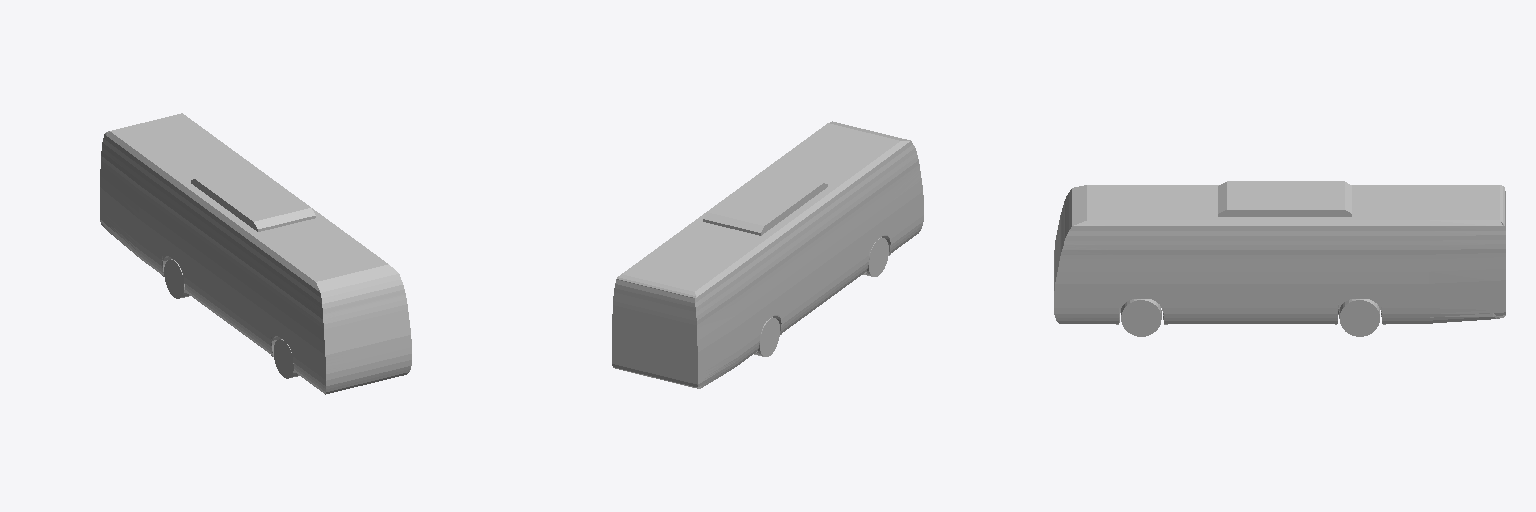
Rendered from Marcopolo Ideale.obj.
3 renders of one model, left to right at view 1: azimuth 30°, elevation 25°; view 2: azimuth 150°, elevation 25°; view 3: azimuth 270°, elevation 25°, orthographic.
Parts seen in each view (by area): view 1: Cube_Cube_001, Cylinder_004, Cylinder; view 2: Cube_Cube_001, Cylinder_004, Cylinder; view 3: Cube_Cube_001, Cylinder_001, Cylinder_002.
Boxes of the visible parts, x1=… form: Cube_Cube_001: x1=100, y1=113, x2=411, y2=394; Cylinder_004: x1=164, y1=259, x2=189, y2=298; Cylinder: x1=274, y1=339, x2=298, y2=378; Cube_Cube_001: x1=612, y1=121, x2=923, y2=388; Cylinder_004: x1=754, y1=317, x2=779, y2=356; Cylinder: x1=863, y1=237, x2=888, y2=276; Cube_Cube_001: x1=1054, y1=181, x2=1505, y2=324; Cylinder_001: x1=1121, y1=299, x2=1161, y2=336; Cylinder_002: x1=1339, y1=299, x2=1379, y2=336.
Size of the model in its own units: 1.69 by 2.29 by 7.74.